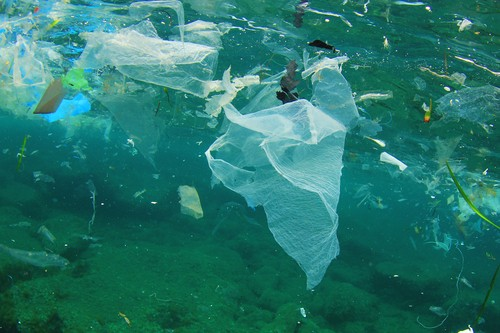litter: (202, 96, 368, 302), (69, 25, 238, 106), (7, 23, 58, 90), (25, 68, 80, 129)
